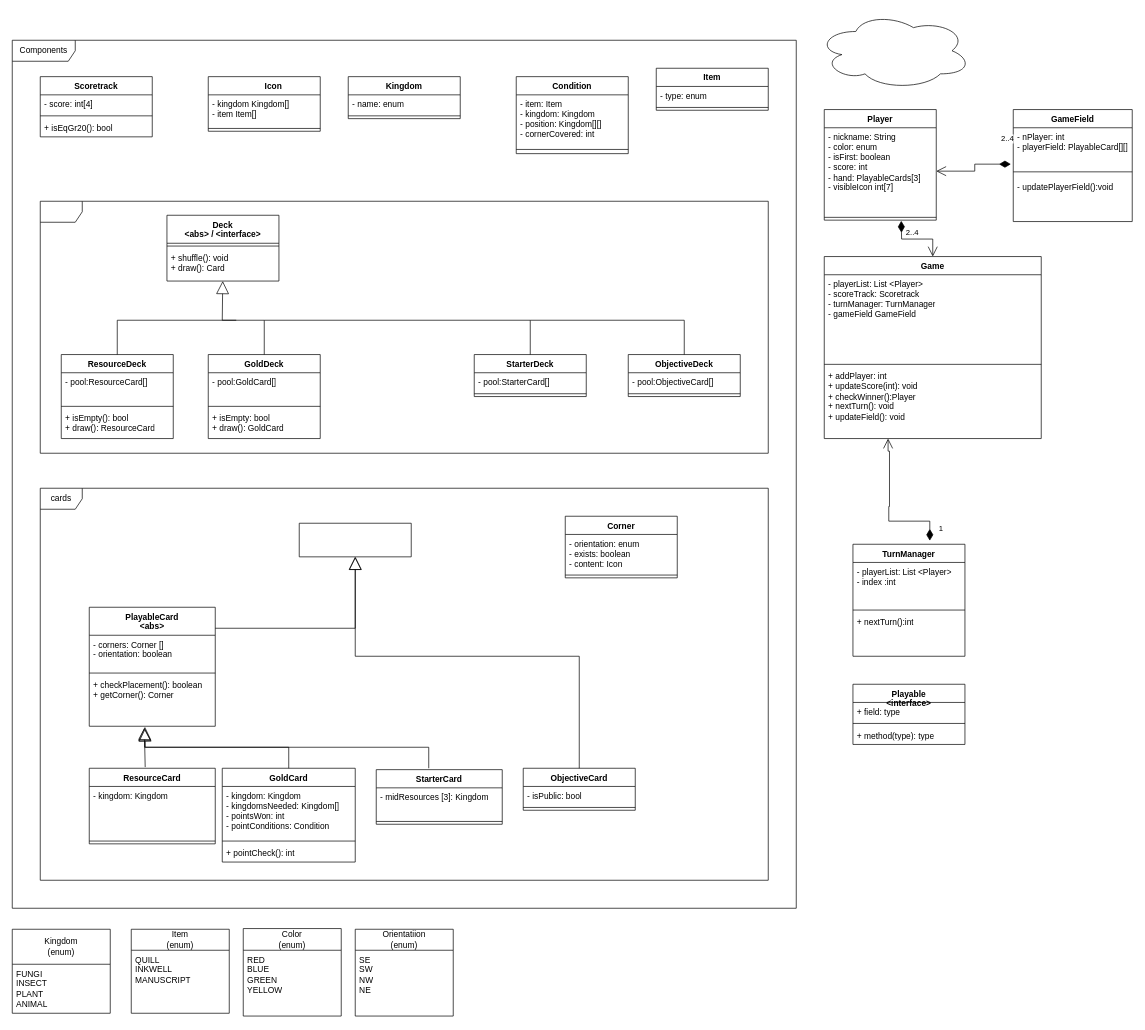
The diagram is 1145 pixels wide and 1030 high, and some of its shapes have lost their labels. The shapes that lost their labels are listed below. From the top down, each one's centre as x and y in pixels, then its label:
At [894,50]: "Everything has a proper getter method!".
At [404,327]: "decks".
At [355,540]: "Card <abs>".
